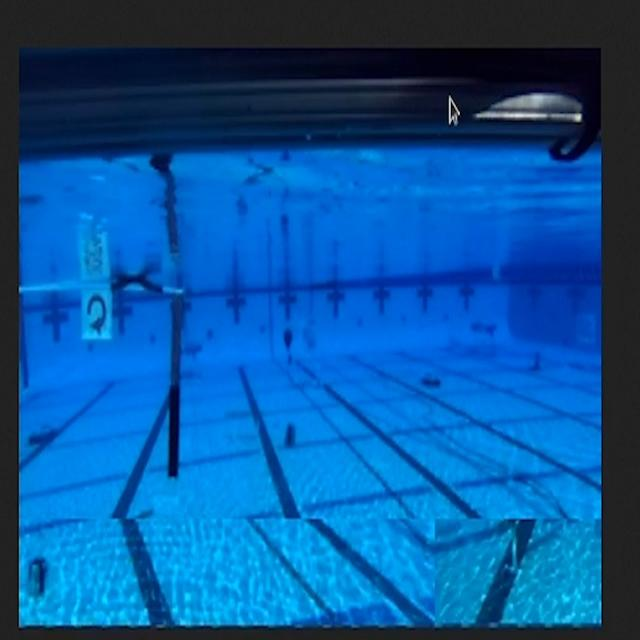Gate: (19, 276, 189, 498)
